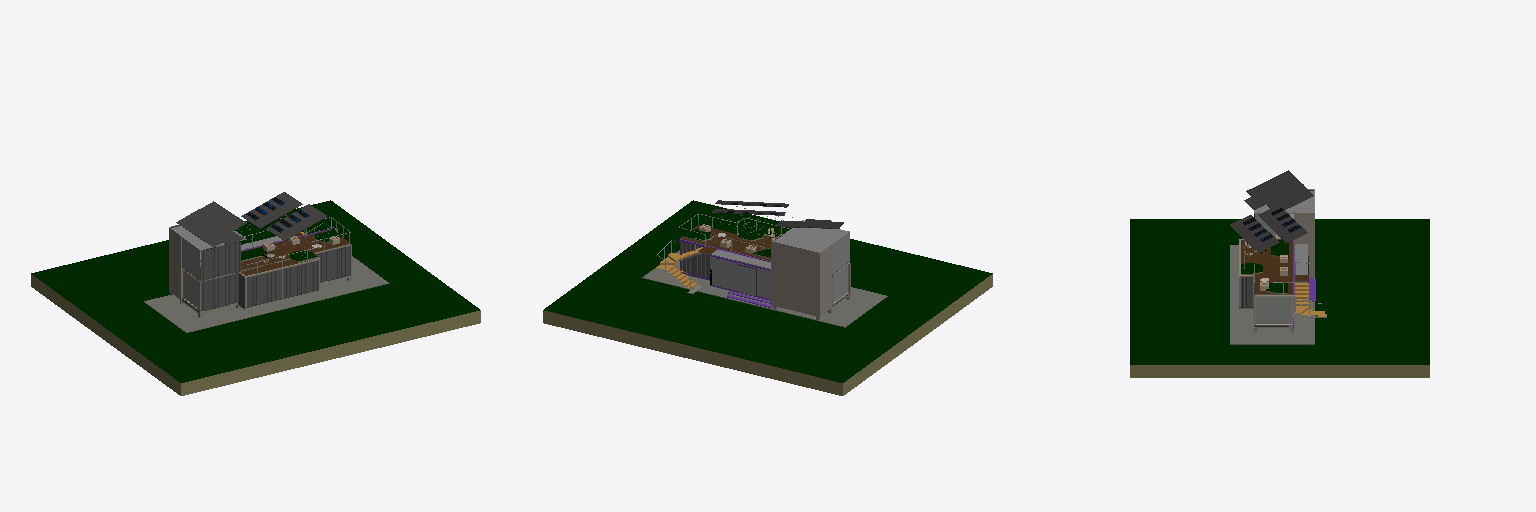
The model's file is lmv5.obj.
3 renders of one model, left to right at view 1: azimuth 30°, elevation 25°; view 2: azimuth 150°, elevation 25°; view 3: azimuth 270°, elevation 25°, orthographic.
Visible parts, largest first — view 1: Mesh256 G_74_____011_1 Model, Mesh299 G_69_____011_1 Model, Mesh300 G_6______011_1 Model, Mesh87 G_269____011_1 Model, Mesh20 G_265____011_1 Model, Mesh152 G_34_____011_1 Model, Mesh77 G_267____011_1 Model, Mesh74 G_268____011_1 Model, Mesh436 G_198____011_1 Model; view 2: Mesh256 G_74_____011_1 Model, Mesh151 G_33_____011_1 Model, Mesh299 G_69_____011_1 Model, Mesh354 G_0______011_1 Model, Mesh148 G_335____011_1 Model, Mesh300 G_6______011_1 Model, Mesh152 G_34_____011_1 Model, Mesh436 G_198____011_1 Model, Mesh266 G_5______011_1 Model; view 3: Mesh256 G_74_____011_1 Model, Mesh299 G_69_____011_1 Model, Mesh300 G_6______011_1 Model, Mesh463 G_200____011_1 Model, Mesh87 G_269____011_1 Model, Mesh20 G_265____011_1 Model, Mesh77 G_267____011_1 Model, Mesh149 G_32_____011_1 Model.
Part boxes in pixels (bbox=[...]): Mesh256 G_74_____011_1 Model: bbox=[31, 200, 480, 395]; Mesh299 G_69_____011_1 Model: bbox=[144, 256, 388, 332]; Mesh300 G_6______011_1 Model: bbox=[182, 229, 350, 280]; Mesh87 G_269____011_1 Model: bbox=[241, 192, 302, 228]; Mesh20 G_265____011_1 Model: bbox=[266, 204, 327, 240]; Mesh152 G_34_____011_1 Model: bbox=[169, 227, 181, 299]; Mesh77 G_267____011_1 Model: bbox=[185, 209, 243, 246]; Mesh74 G_268____011_1 Model: bbox=[200, 201, 246, 230]; Mesh436 G_198____011_1 Model: bbox=[182, 237, 199, 279]; Mesh256 G_74_____011_1 Model: bbox=[543, 200, 992, 395]; Mesh151 G_33_____011_1 Model: bbox=[772, 241, 819, 316]; Mesh299 G_69_____011_1 Model: bbox=[642, 250, 887, 327]; Mesh354 G_0______011_1 Model: bbox=[710, 257, 770, 298]; Mesh148 G_335____011_1 Model: bbox=[775, 220, 848, 251]; Mesh300 G_6______011_1 Model: bbox=[680, 225, 849, 274]; Mesh152 G_34_____011_1 Model: bbox=[820, 243, 831, 316]; Mesh436 G_198____011_1 Model: bbox=[832, 231, 849, 273]; Mesh266 G_5______011_1 Model: bbox=[738, 264, 756, 295]; Mesh256 G_74_____011_1 Model: bbox=[1130, 219, 1429, 377]; Mesh299 G_69_____011_1 Model: bbox=[1230, 245, 1314, 344]; Mesh300 G_6______011_1 Model: bbox=[1254, 239, 1308, 294]; Mesh463 G_200____011_1 Model: bbox=[1255, 296, 1292, 324]; Mesh87 G_269____011_1 Model: bbox=[1258, 205, 1307, 243]; Mesh20 G_265____011_1 Model: bbox=[1230, 215, 1279, 252]; Mesh77 G_267____011_1 Model: bbox=[1244, 176, 1303, 209]; Mesh149 G_32_____011_1 Model: bbox=[1294, 212, 1314, 276].
Size of the model in its own units: 0.9463 by 0.2944 by 0.8199.